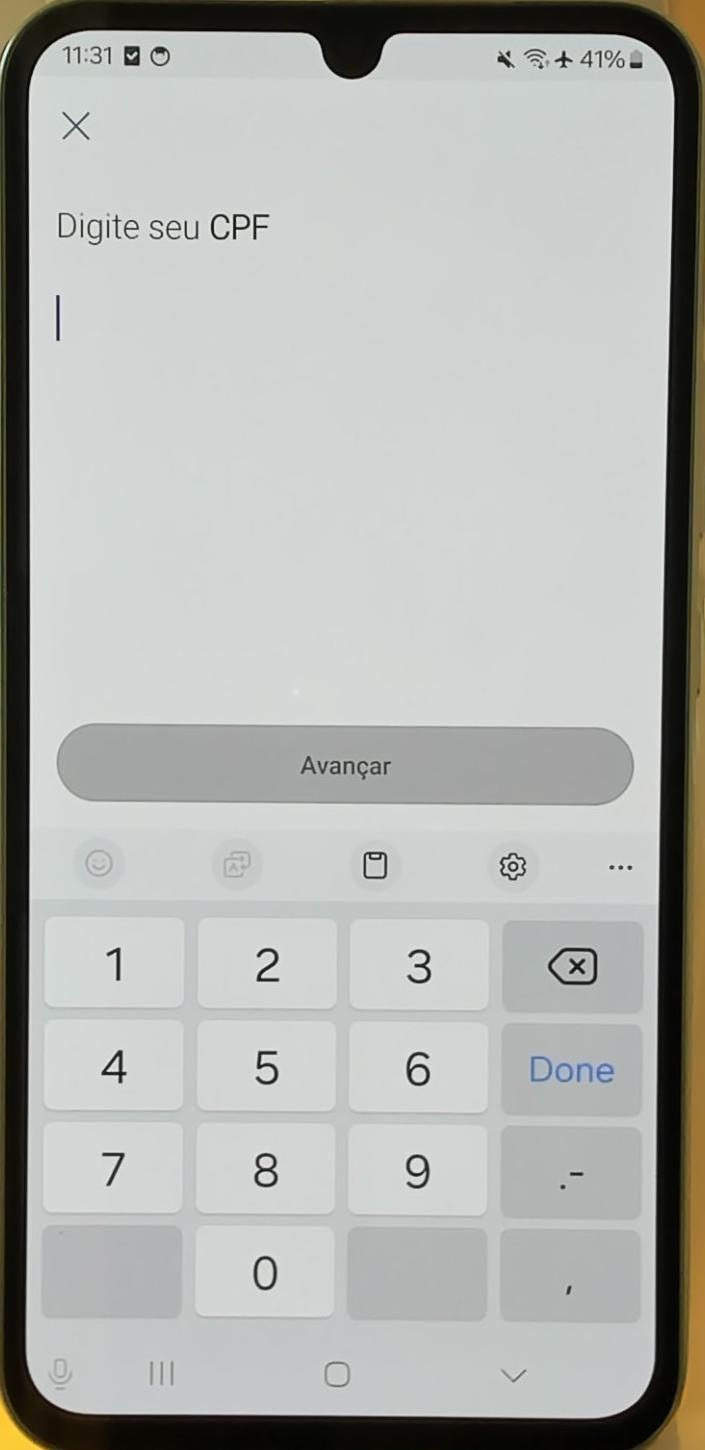CommunBotton: (48, 718, 640, 818), (344, 830, 400, 890), (488, 836, 542, 896), (60, 106, 96, 150)
NumKeyboard: (40, 900, 650, 1338)
menu: (599, 849, 647, 891)
